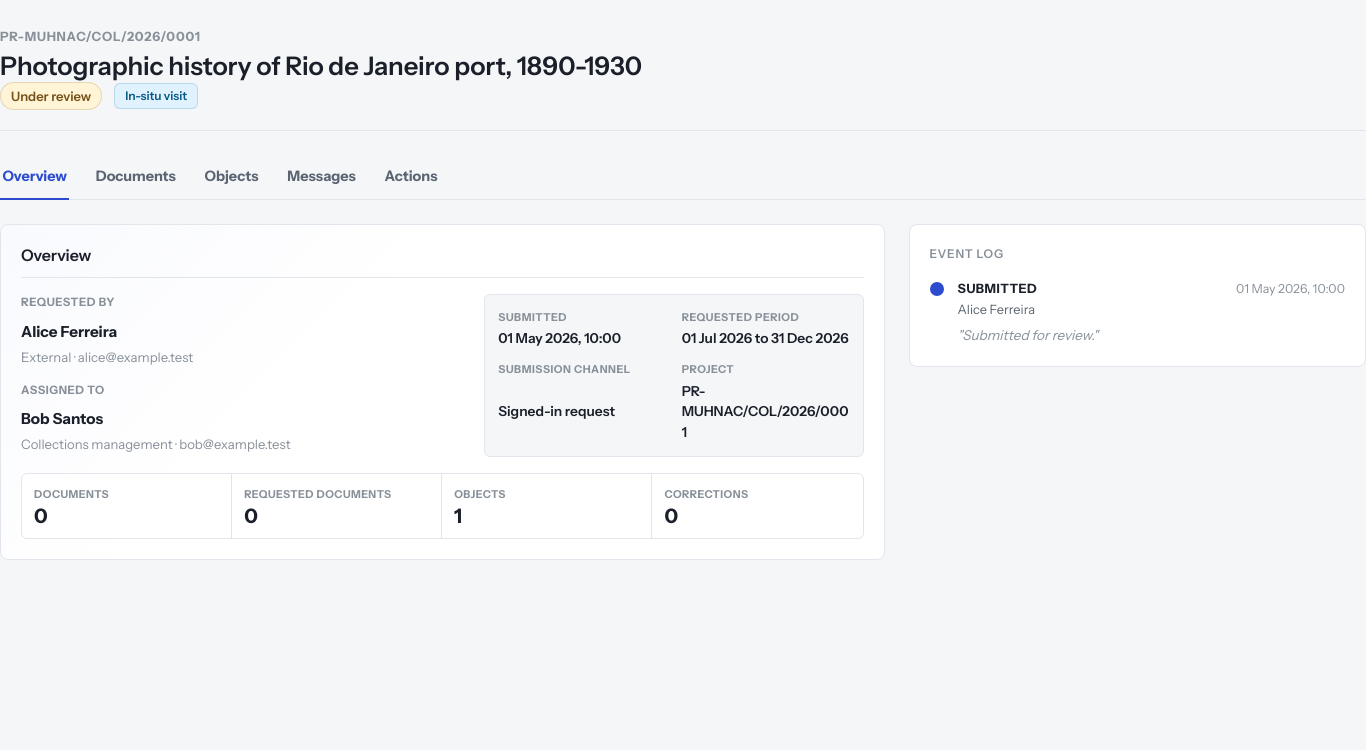
it: ProposalMyDetailPageComponent › enables the staff-only requested-object disclosure in the conversation panel
The width and height of the screenshot is (1366, 750).
Click the tab "Messages" at (322, 177), box [285,155,358,200]
(page scrolled)
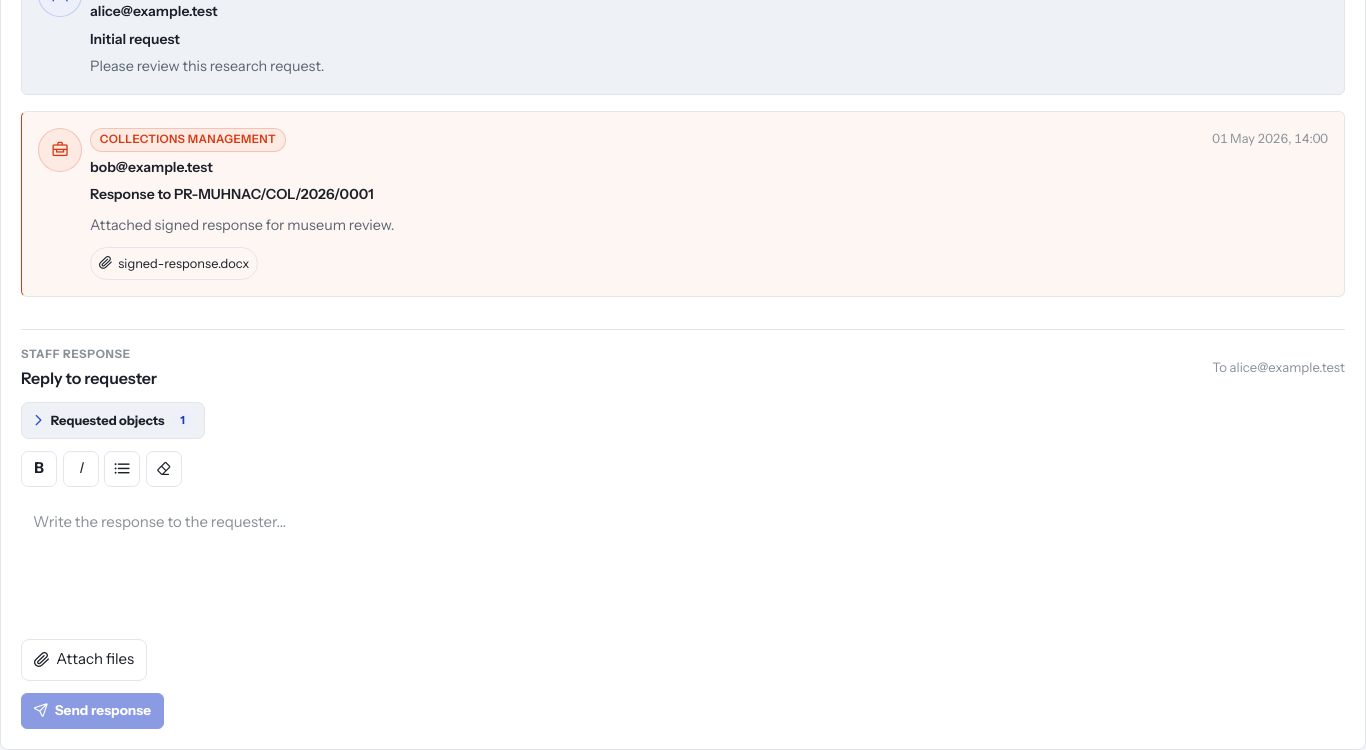
Check: the button "Requested objects 1" is shown, box [21,402,205,439]
